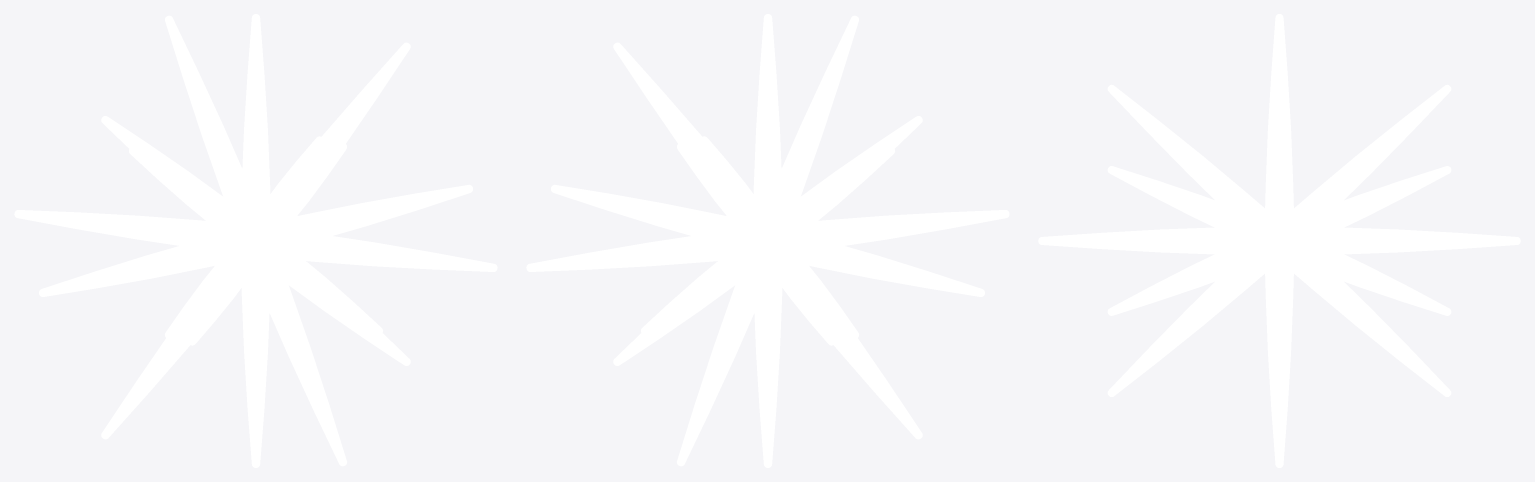
The model's file is star.glb.
3 views of the same model, side by side, from view 1: azimuth 30°, elevation 25°; view 2: azimuth 150°, elevation 25°; view 3: azimuth 270°, elevation 25° (orthographic). The views are drawn at different scales.
Parts seen in each view (by area): view 1: Star.1; view 2: Star.1; view 3: Star.1.
Boxes of the visible parts, x1,y1,x2,y2 form: Star.1: (14, 14, 497, 467); Star.1: (526, 14, 1009, 467); Star.1: (1038, 14, 1520, 467).
Bounding box in the file's own units: 0.0946 × 0.0946 × 0.0946.
Materials: 1 (1 with a texture image).
